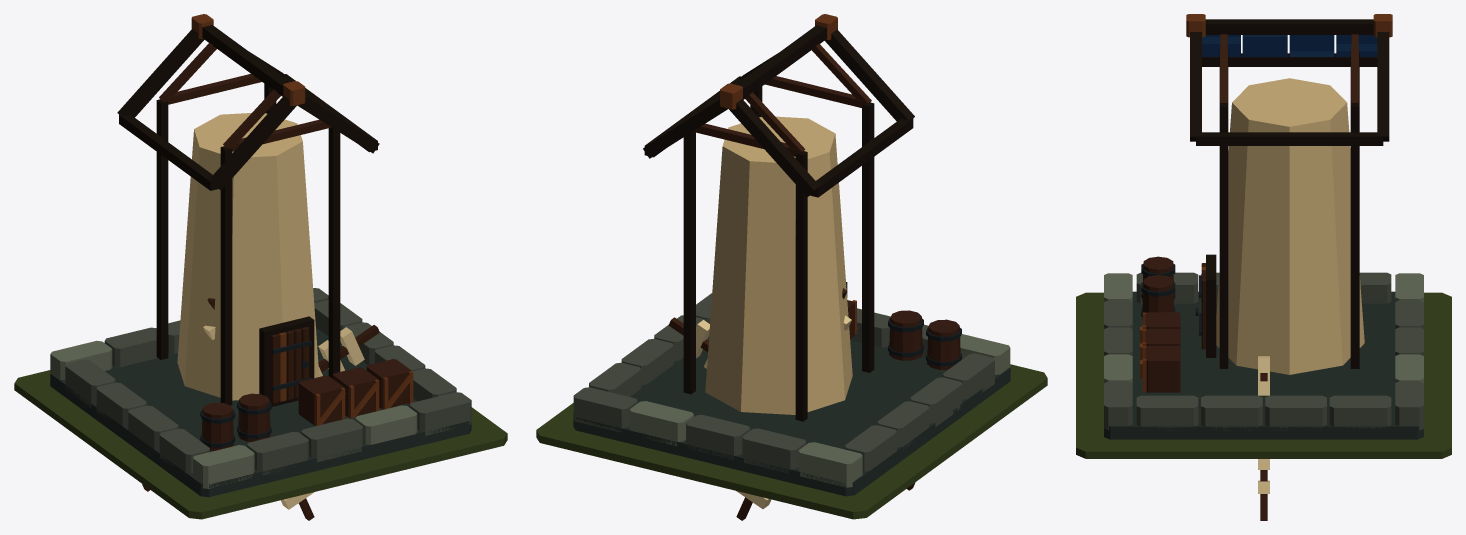
The model's file is mill_t3.glb.
The picture shows the model from 3 angles, left to right: view 1: azimuth 30°, elevation 25°; view 2: azimuth 150°, elevation 25°; view 3: azimuth 270°, elevation 25°; orthographic projection. The views are drawn at different scales.
Visible parts, largest first — view 1: MMR | mill | T03 Architecture.001, MMR | mill | Tier 03 Ground.001, MMR | mill | T03 Wind Rotor.001; view 2: MMR | mill | T03 Architecture.001, MMR | mill | Tier 03 Ground.001, MMR | mill | T03 Wind Rotor.001; view 3: MMR | mill | T03 Architecture.001, MMR | mill | Tier 03 Ground.001, MMR | mill | T03 Wind Rotor.001.
Part boxes in pixels (x1,y1,x2,y2): MMR | mill | T03 Architecture.001: [50, 14, 471, 497]; MMR | mill | Tier 03 Ground.001: [14, 370, 507, 519]; MMR | mill | T03 Wind Rotor.001: [142, 298, 379, 520]; MMR | mill | T03 Architecture.001: [573, 14, 1010, 496]; MMR | mill | Tier 03 Ground.001: [536, 364, 1047, 519]; MMR | mill | T03 Wind Rotor.001: [668, 288, 915, 520]; MMR | mill | T03 Architecture.001: [1104, 14, 1423, 439]; MMR | mill | Tier 03 Ground.001: [1076, 292, 1451, 458]; MMR | mill | T03 Wind Rotor.001: [1258, 356, 1269, 520].
Bounding box in the file's own units: 2.35 × 3.31 × 2.35.
Materials: 1 (1 with a texture image).
